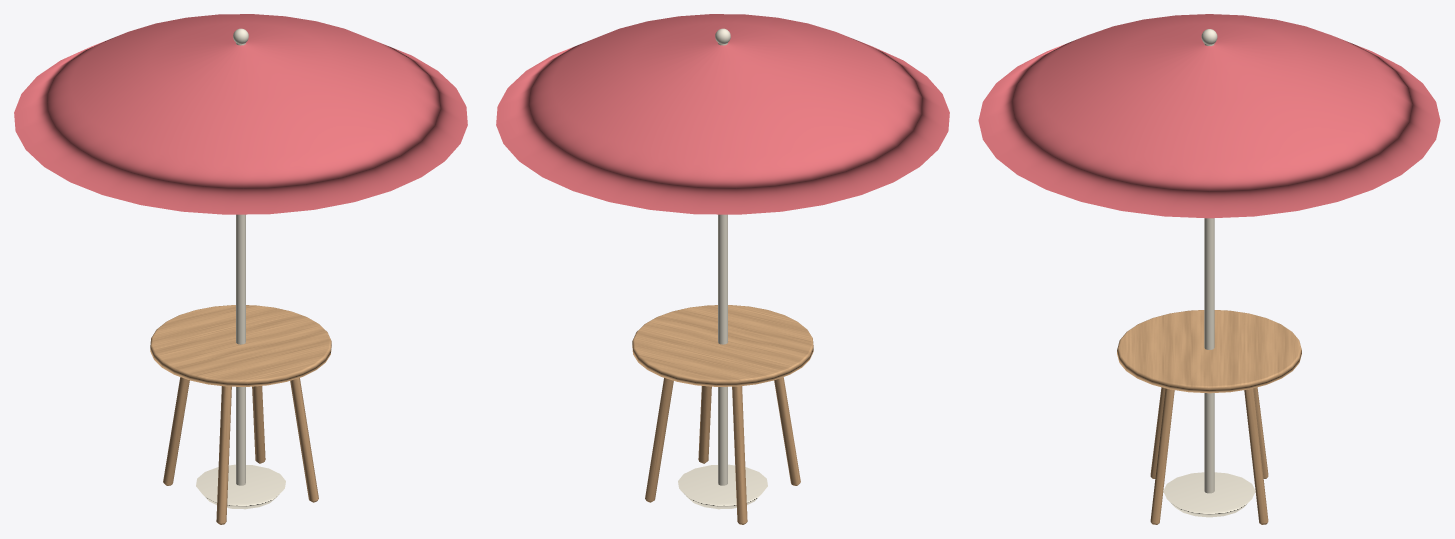
Rendered from prop_patio_set.glb.
3 views of the same model, side by side, from view 1: azimuth 30°, elevation 25°; view 2: azimuth 150°, elevation 25°; view 3: azimuth 270°, elevation 25° (orthographic).
Parts seen in each view (by area): view 1: prop_patio_set; view 2: prop_patio_set; view 3: prop_patio_set.
Boxes of the visible parts, x1=… form: prop_patio_set: x1=14, y1=14, x2=467, y2=524; prop_patio_set: x1=496, y1=14, x2=949, y2=524; prop_patio_set: x1=978, y1=14, x2=1440, y2=524.
Size of the model in its own units: 2.5 by 2.82 by 2.5.
Materials: 3 (1 with a texture image).
